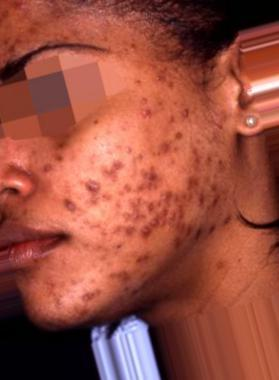Acne: (4, 4, 71, 33), (131, 203, 185, 232), (147, 99, 199, 128), (186, 173, 223, 210), (133, 164, 162, 202), (104, 156, 129, 190), (111, 267, 142, 288), (83, 177, 108, 202), (60, 195, 85, 217)
